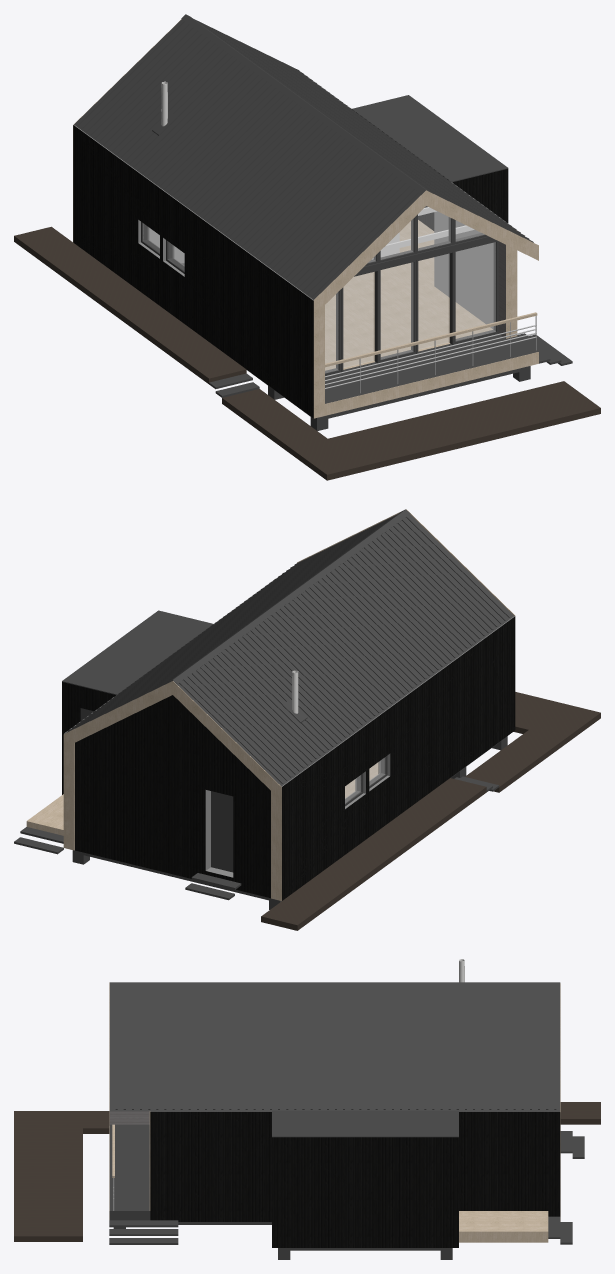
The model's file is Module1.glb.
The picture shows the model from 3 angles, top to bottom: view 1: azimuth 30°, elevation 25°; view 2: azimuth 150°, elevation 25°; view 3: azimuth 270°, elevation 25°; orthographic projection. The views are drawn at different scales.
Visible parts, largest first — view 1: Гидроизоляция, Черная отделка, Дорожка, Отделка внешней доски, Стекло, Белый, DEFAULT, Стена по умолчанию, Белая доска 2; view 2: Гидроизоляция, Черная отделка, Дорожка, Отделка внешней доски, Стена по умолчанию, Стекло; view 3: Гидроизоляция, Черная отделка, Дорожка, Отделка внешней доски, Белая доска 2.
Part boxes in pixels (x1,y1,x2,y2): Гидроизоляция: [74, 14, 572, 430]; Черная отделка: [73, 125, 508, 418]; Дорожка: [14, 226, 600, 480]; Отделка внешней доски: [73, 19, 538, 418]; Стекло: [143, 206, 495, 372]; Белый: [149, 207, 493, 329]; DEFAULT: [325, 316, 536, 393]; Стена по умолчанию: [73, 71, 516, 300]; Белая доска 2: [498, 241, 505, 338]; Гидроизоляция: [14, 509, 513, 909]; Черная отделка: [62, 616, 515, 900]; Дорожка: [261, 692, 600, 930]; Отделка внешней доски: [26, 509, 515, 900]; Стена по умолчанию: [64, 580, 514, 877]; Стекло: [345, 757, 385, 803]; Гидроизоляция: [109, 982, 584, 1259]; Черная отделка: [150, 1111, 560, 1247]; Дорожка: [14, 1102, 600, 1241]; Отделка внешней доски: [109, 982, 560, 1242]; Белая доска 2: [109, 1111, 149, 1124].
Bounding box in the file's own units: 8.5 × 5.51 × 14.45.
11 materials, 5 textured.
